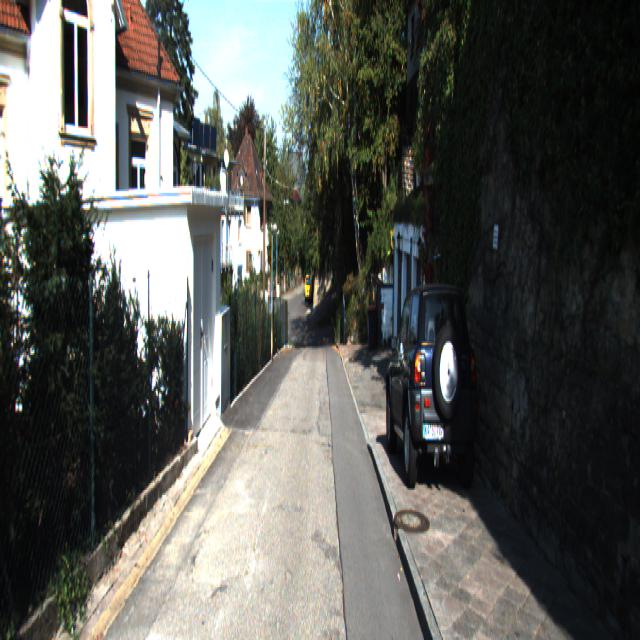Car: (384, 276, 482, 499)
